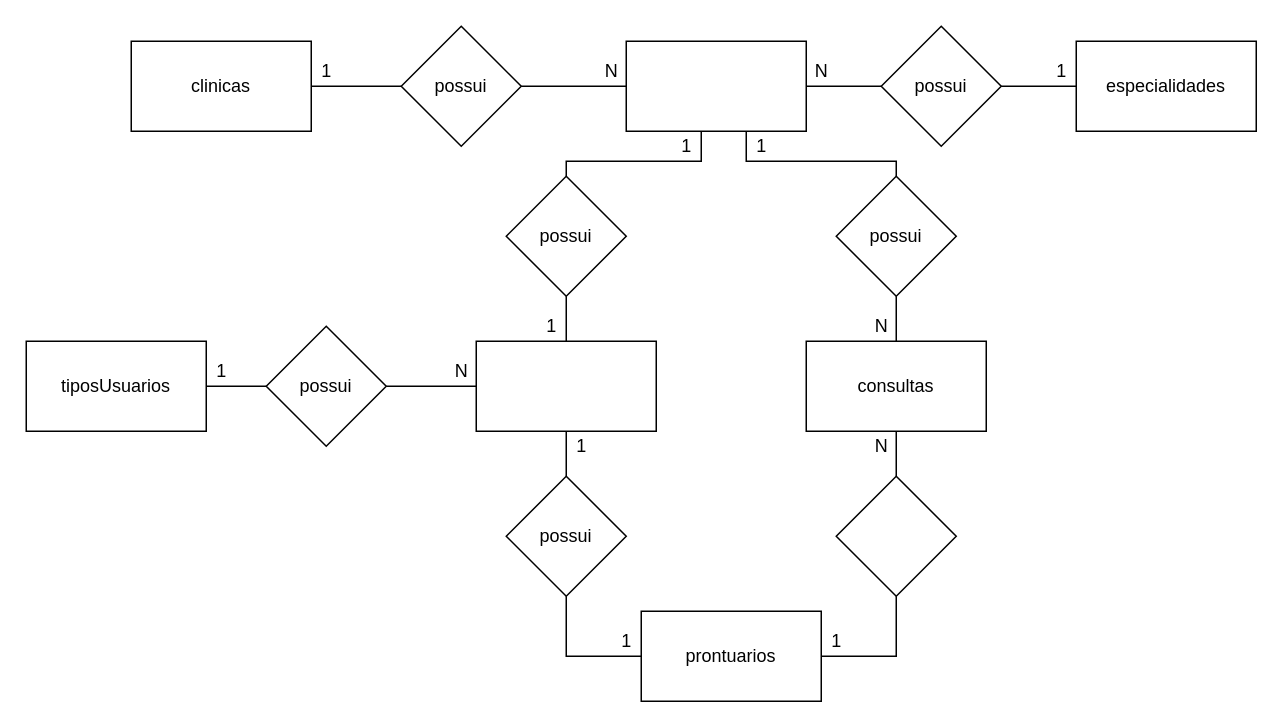
This 1283x728 diagram has some shape labels left out. The centre of each missing label's shape, as x and y in pixels:
"medicos" belongs at pixel 715 85.
"posuui" belongs at pixel 895 535.
"usuarios" belongs at pixel 565 385.
